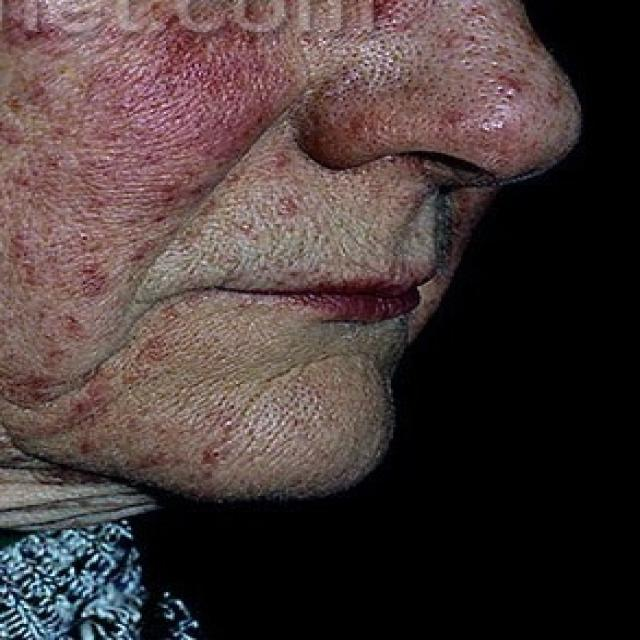Rosacea: (98, 24, 292, 160)
